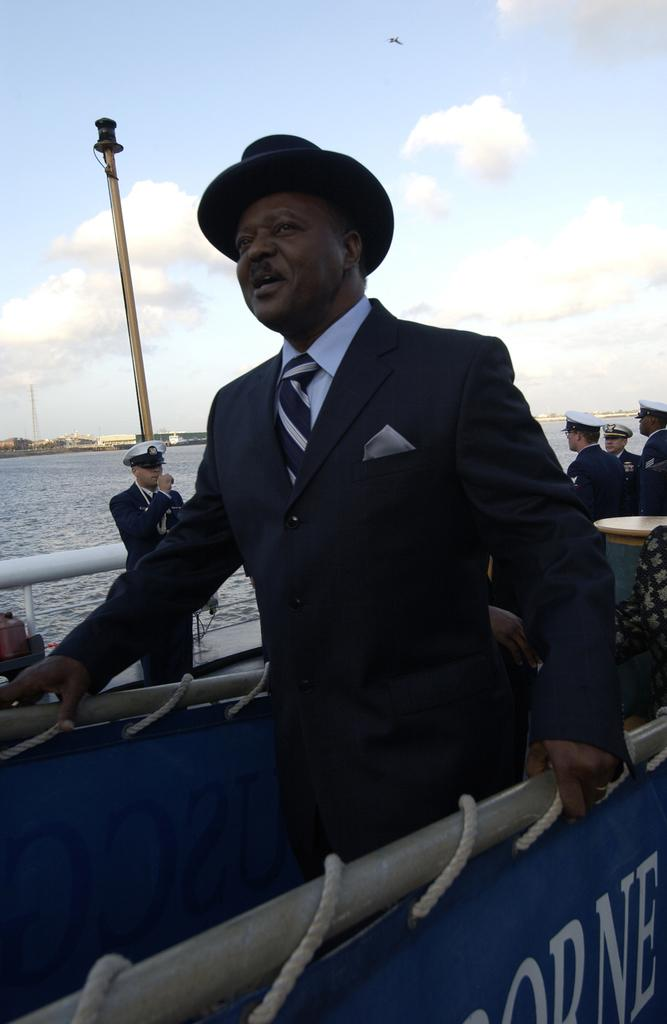Hat: (196, 134, 397, 278), (558, 408, 602, 434), (126, 442, 168, 466), (602, 420, 635, 435), (637, 400, 666, 416)
